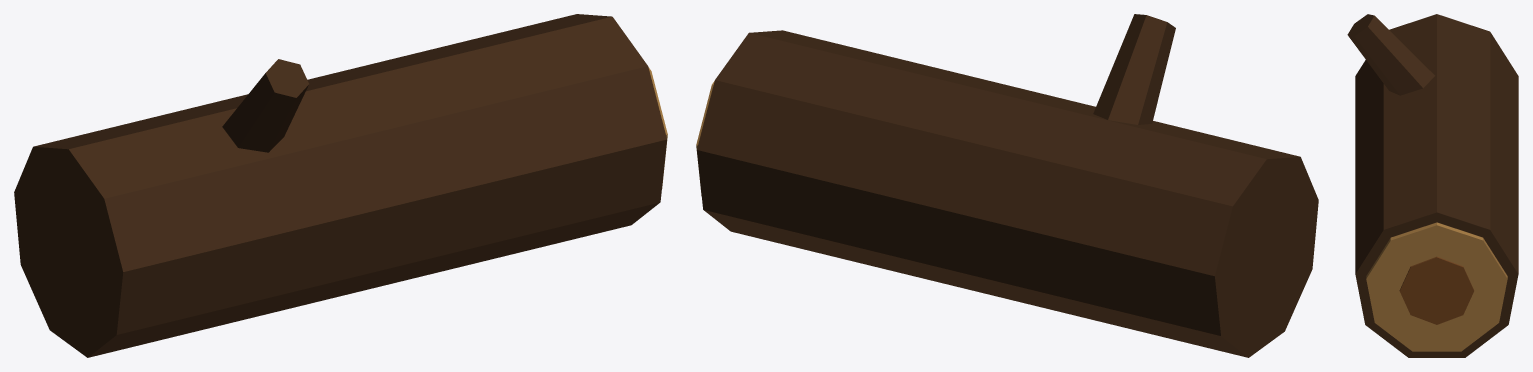
Rendered from FallenLog.fbx.
3 renders of one model, left to right at view 1: azimuth 30°, elevation 25°; view 2: azimuth 150°, elevation 25°; view 3: azimuth 270°, elevation 25°, orthographic. The views are drawn at different scales.
Visible parts, largest first — view 1: FallenLog_Mesh; view 2: FallenLog_Mesh; view 3: FallenLog_Mesh.
Part boxes in pixels (<box>): FallenLog_Mesh: <box>14,14,667,357</box>; FallenLog_Mesh: <box>696,14,1318,357</box>; FallenLog_Mesh: <box>1347,14,1518,357</box>.
Size of the model in its own units: 0.693 by 0.3282 by 0.2478.
